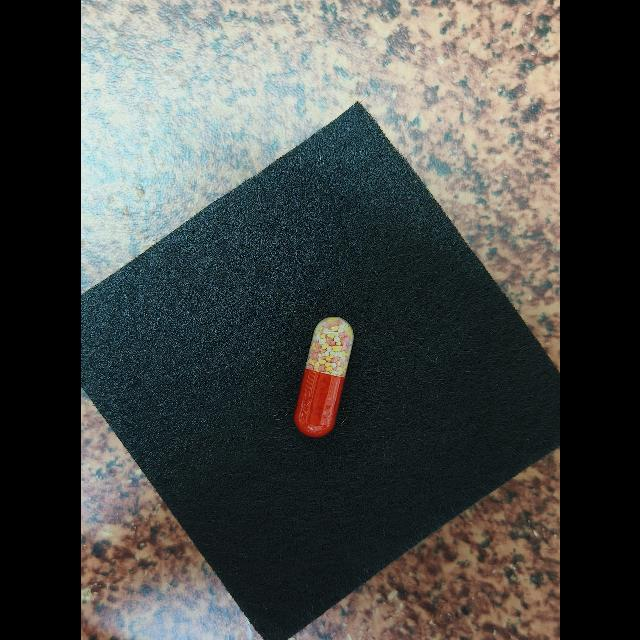Intact Capsule: (293, 317, 353, 437)
